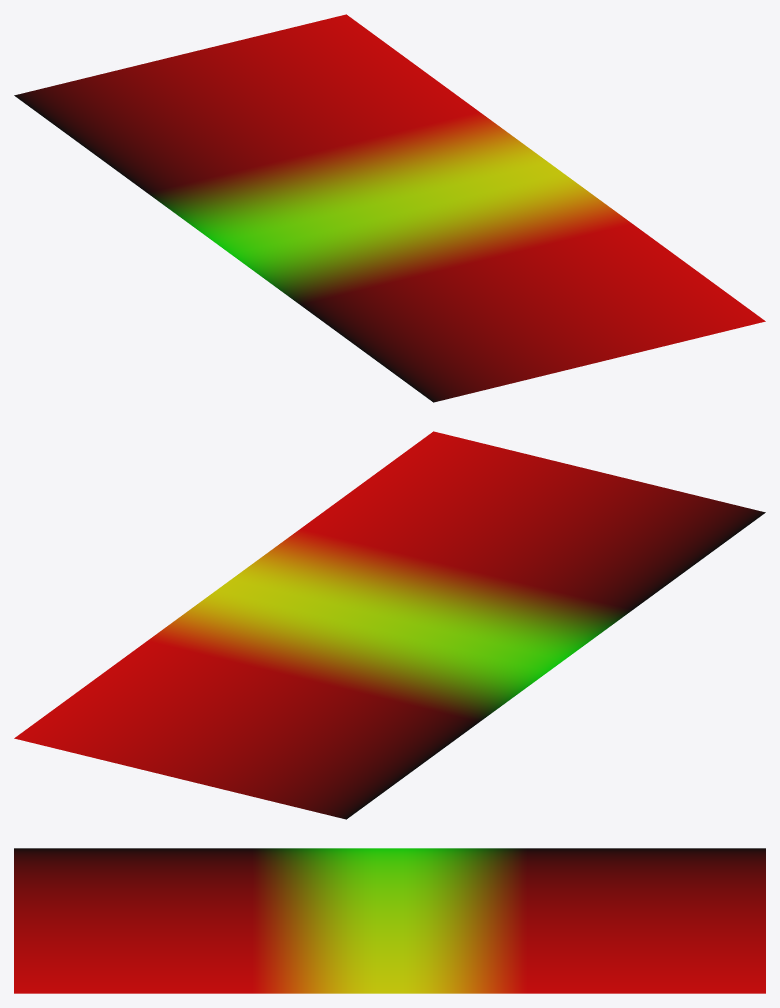
File: Surface Old.FBX
The picture shows the model from 3 angles, top to bottom: view 1: azimuth 30°, elevation 25°; view 2: azimuth 150°, elevation 25°; view 3: azimuth 270°, elevation 25°; orthographic projection. The views are drawn at different scales.
Visible parts, largest first — view 1: WaterSurface; view 2: WaterSurface; view 3: WaterSurface.
Boxes of the visible parts, x1=… form: WaterSurface: x1=14, y1=14, x2=765, y2=402; WaterSurface: x1=14, y1=431, x2=765, y2=819; WaterSurface: x1=14, y1=848, x2=765, y2=993.
Size of the model in its own units: 5.49 by 8.88e-16 by 12.
